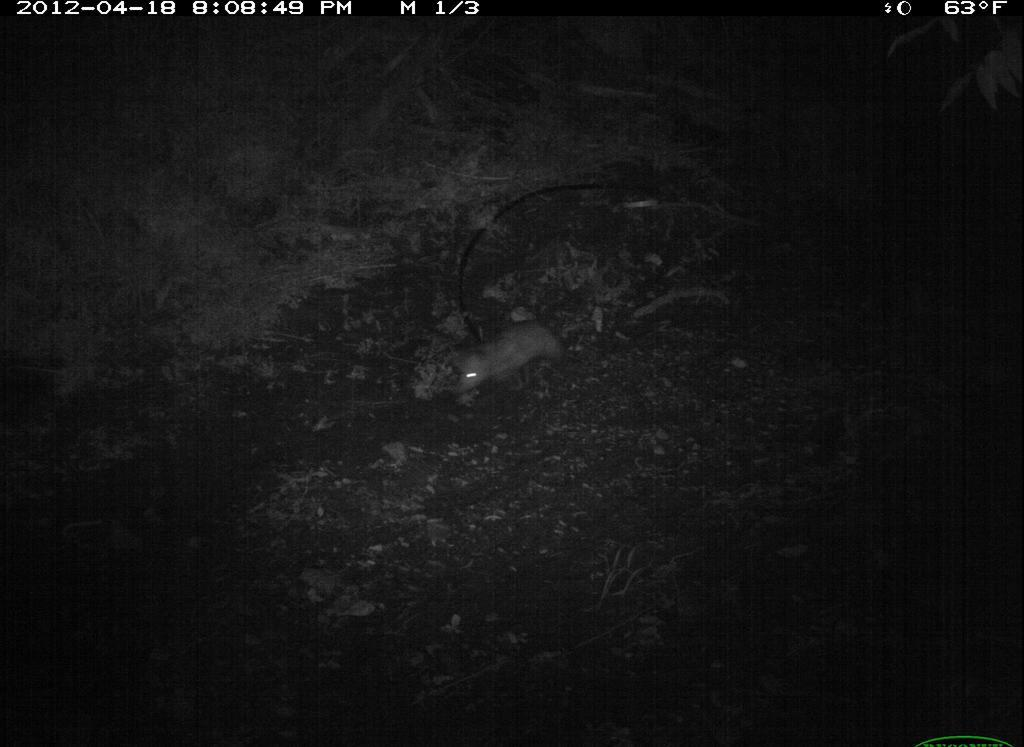opossum: (442, 314, 606, 414)
